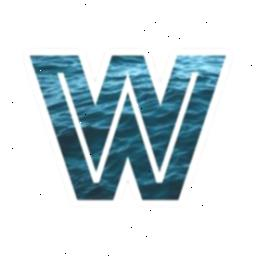w: (20, 44, 234, 210), (52, 64, 202, 194)
